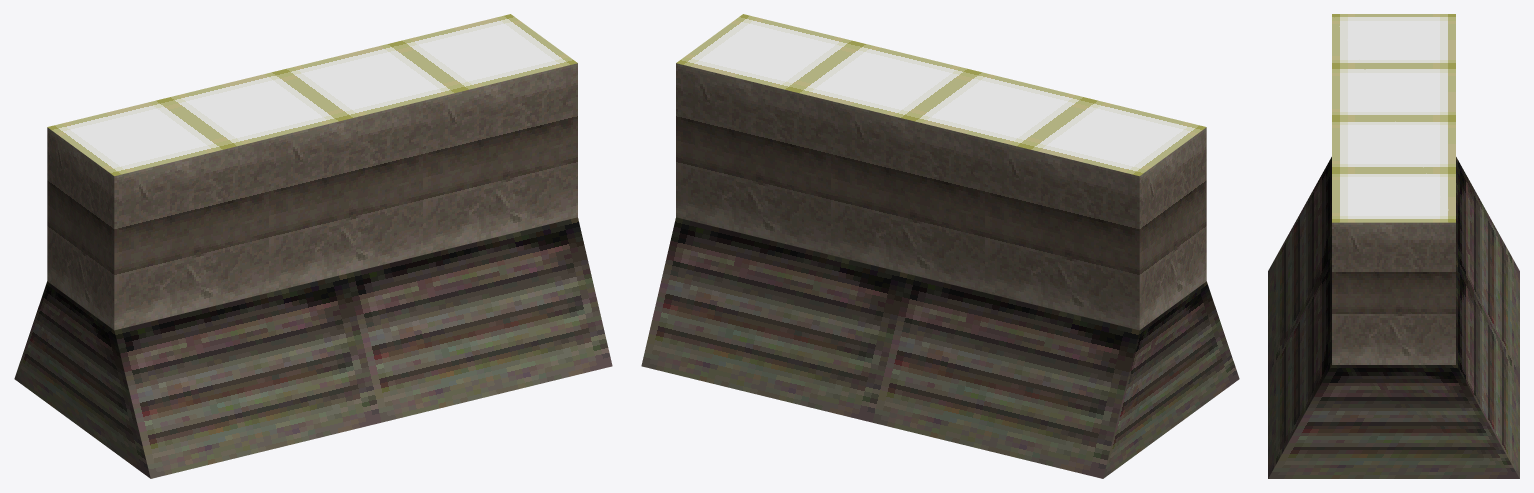
File: hj2-inda-mesh.glb
3 renders of one model, left to right at view 1: azimuth 30°, elevation 25°; view 2: azimuth 150°, elevation 25°; view 3: azimuth 270°, elevation 25°, orthographic. The views are drawn at different scales.
Visible parts, largest first — view 1: hj2-inda-props; view 2: hj2-inda-props; view 3: hj2-inda-props.
Part boxes in pixels (x1,y1,x2,y2): hj2-inda-props: [14, 14, 612, 478]; hj2-inda-props: [641, 14, 1239, 478]; hj2-inda-props: [1268, 14, 1519, 478].
Size of the model in its own units: 5.25 by 3.01 by 2.68.
3 materials, 3 textured.
